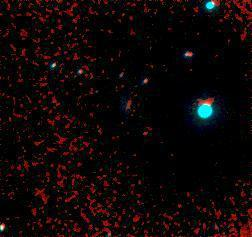star: (131, 113, 161, 143)
